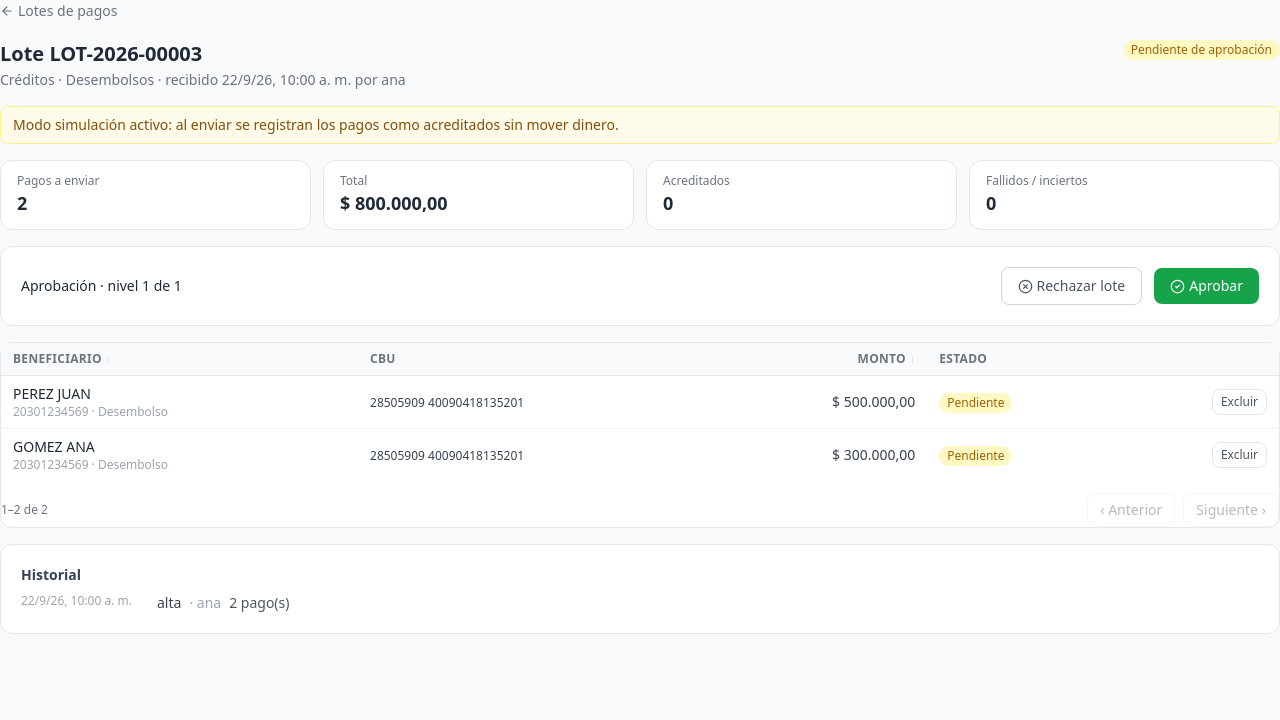
Test: LotePage › excluir pide motivo
Click the button "Excluir" in the row of "PEREZ JUAN" at (1239, 402), box x1=1212 y1=389 x2=1267 y2=415
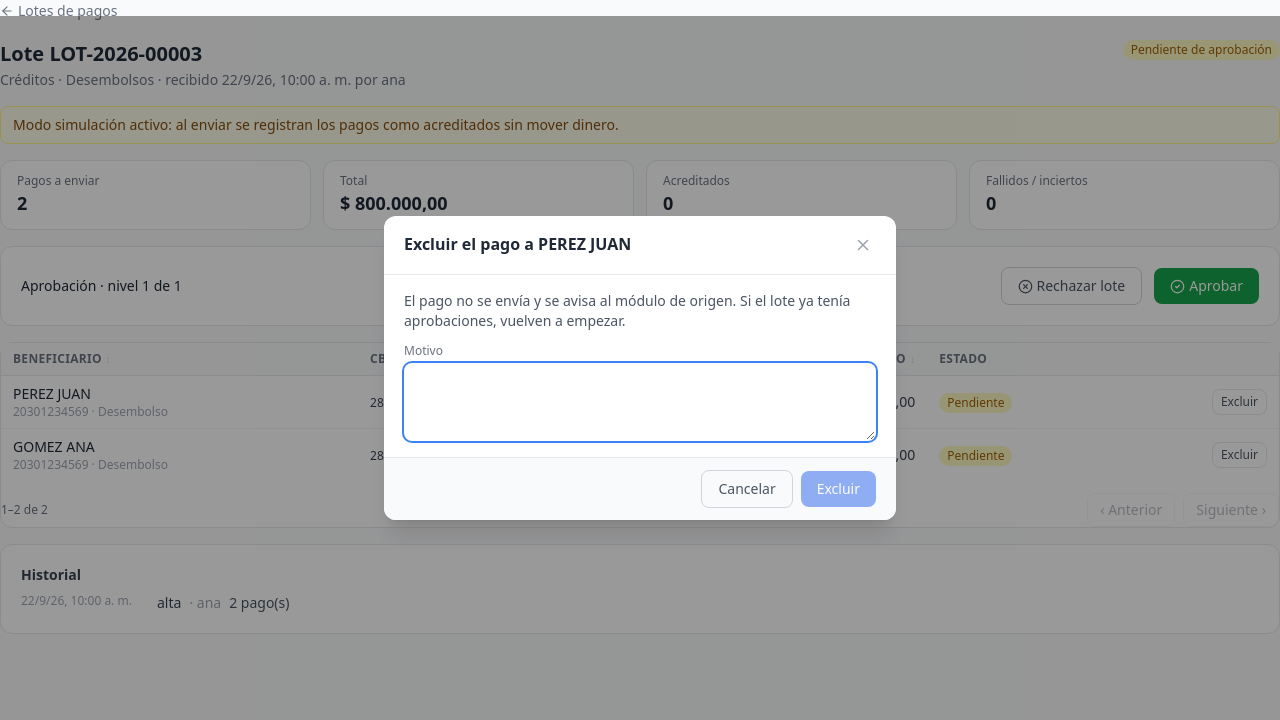
Expected: the button "Excluir" is disabled, x1=801 y1=471 x2=876 y2=507
Type "CBU dudoso" into the text box at (640, 402), box x1=404 y1=363 x2=876 y2=441
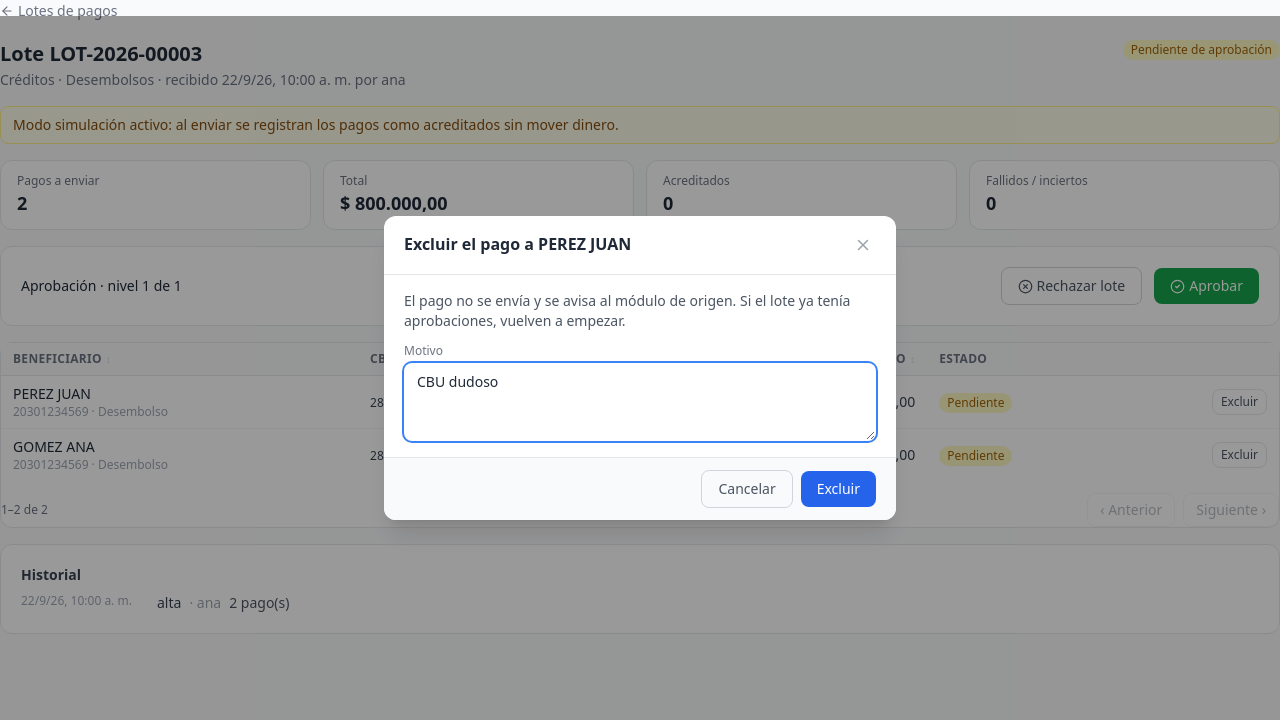
Click the button "Excluir" at (838, 489), box x1=801 y1=471 x2=876 y2=507
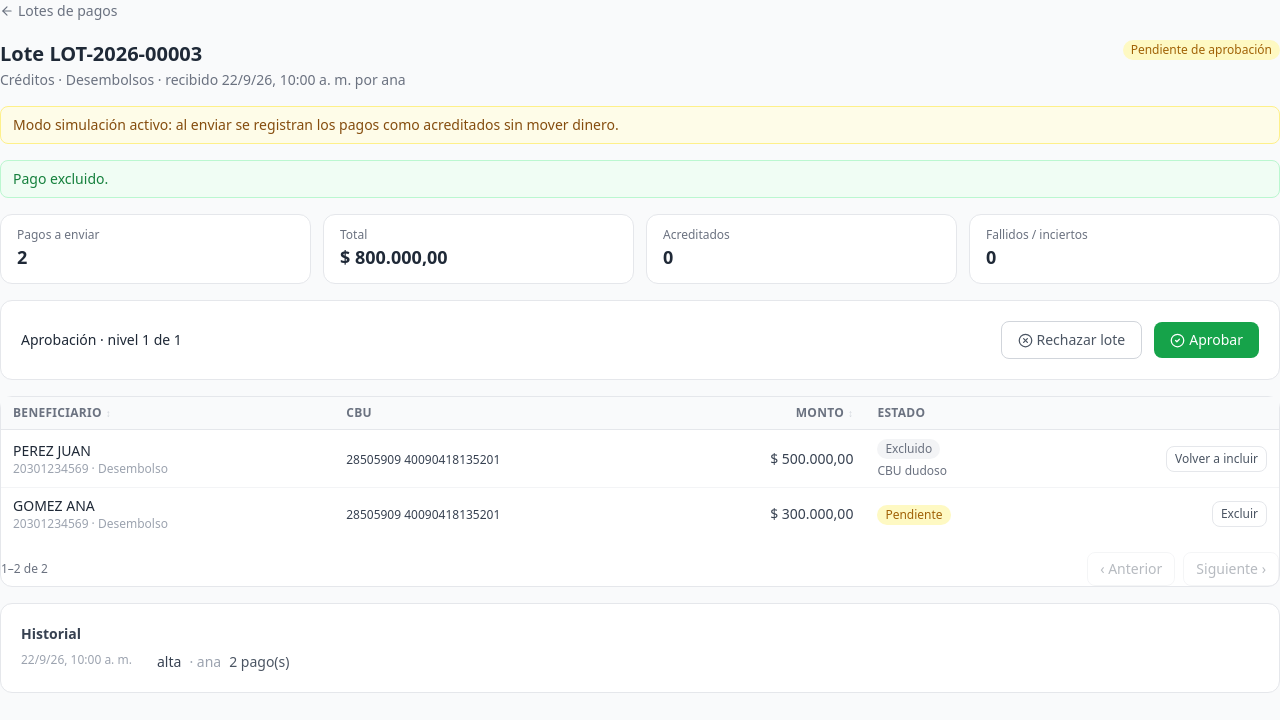
Expected: the text "Pago excluido." is shown, x1=0 y1=160 x2=1279 y2=198
